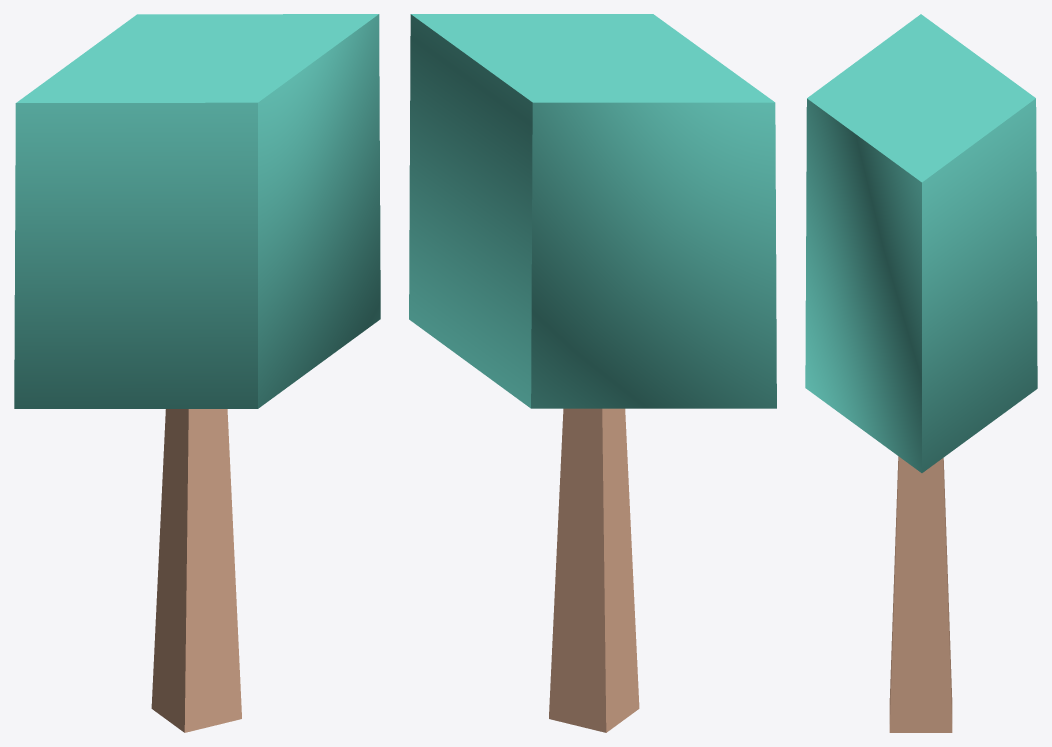
File: tree_default_18face.fbx
3 renders of one model, left to right at view 1: azimuth 30°, elevation 25°; view 2: azimuth 150°, elevation 25°; view 3: azimuth 270°, elevation 25°, orthographic. The views are drawn at different scales.
Parts seen in each view (by area): view 1: tree_default; view 2: tree_default; view 3: tree_default.
Boxes of the visible parts, x1,y1,x2,y2 form: tree_default: (14, 14, 380, 732); tree_default: (409, 14, 776, 732); tree_default: (805, 14, 1037, 732).
Size of the model in its own units: 268 by 456 by 154.
